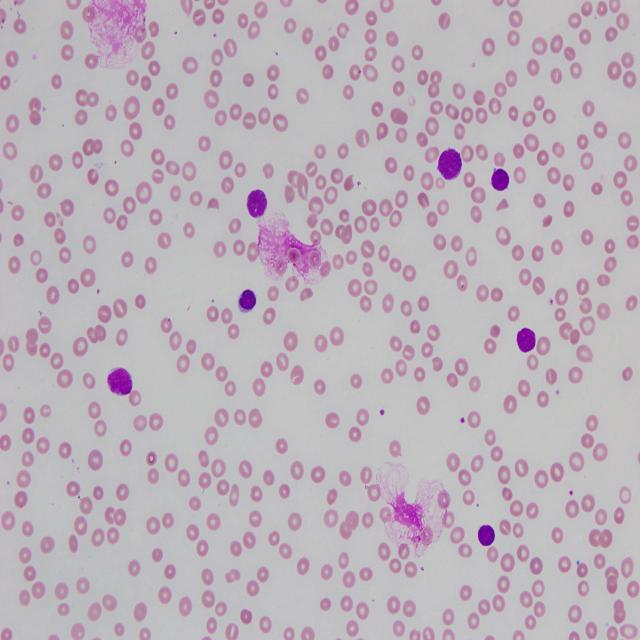cell: (438, 148, 461, 180), (108, 368, 132, 395), (248, 190, 268, 218), (516, 328, 536, 352), (491, 168, 509, 191), (238, 290, 256, 312), (478, 525, 495, 546)
